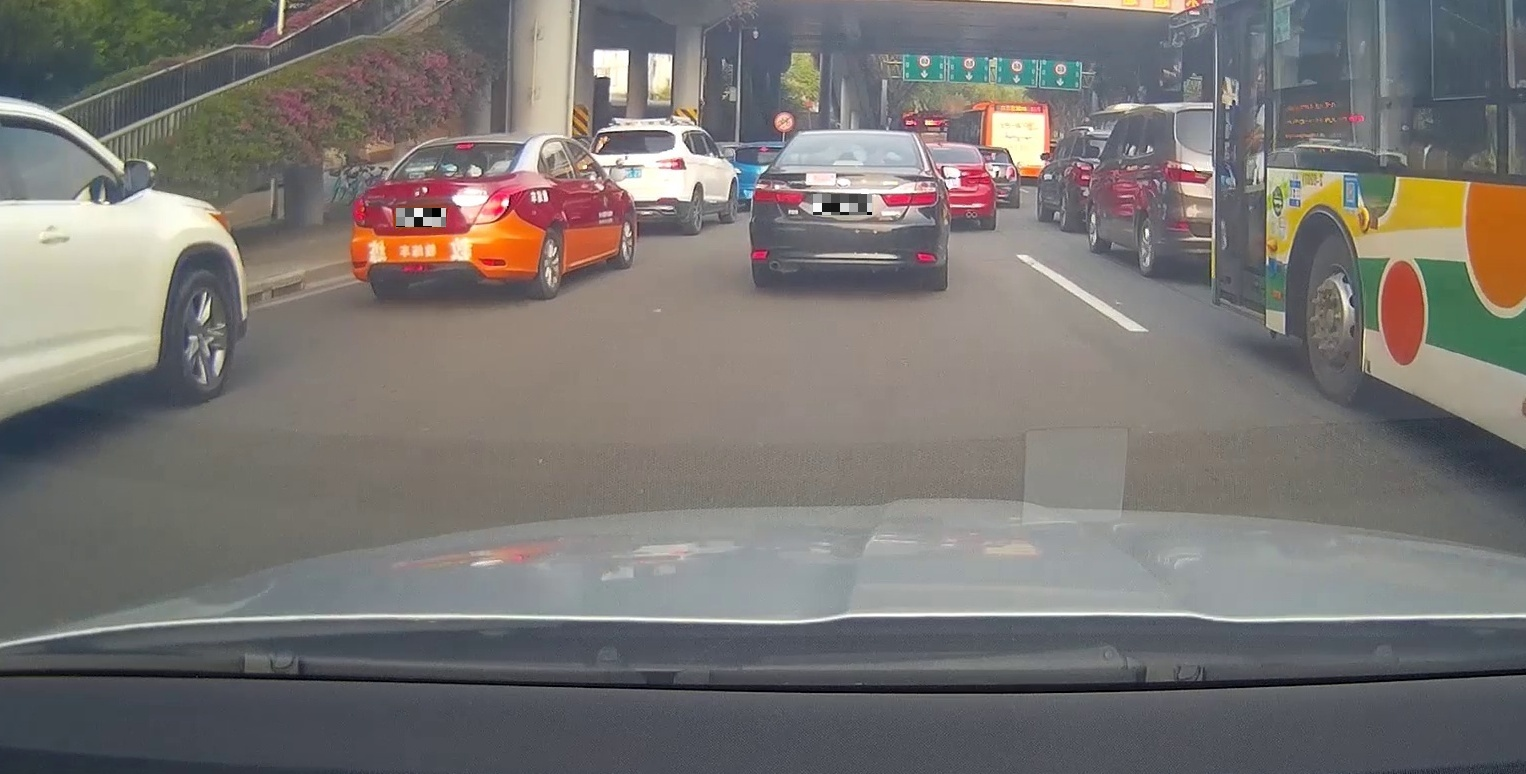L_light: (752, 179, 805, 204), (352, 195, 366, 227)
R_light: (472, 183, 529, 225), (880, 181, 939, 208)
T_light: (833, 160, 865, 166), (456, 142, 474, 149)
day-brake: (349, 135, 544, 301)
day-no: (749, 130, 946, 290)
plate_1: (396, 208, 446, 227)
plate_2: (813, 194, 872, 215)
